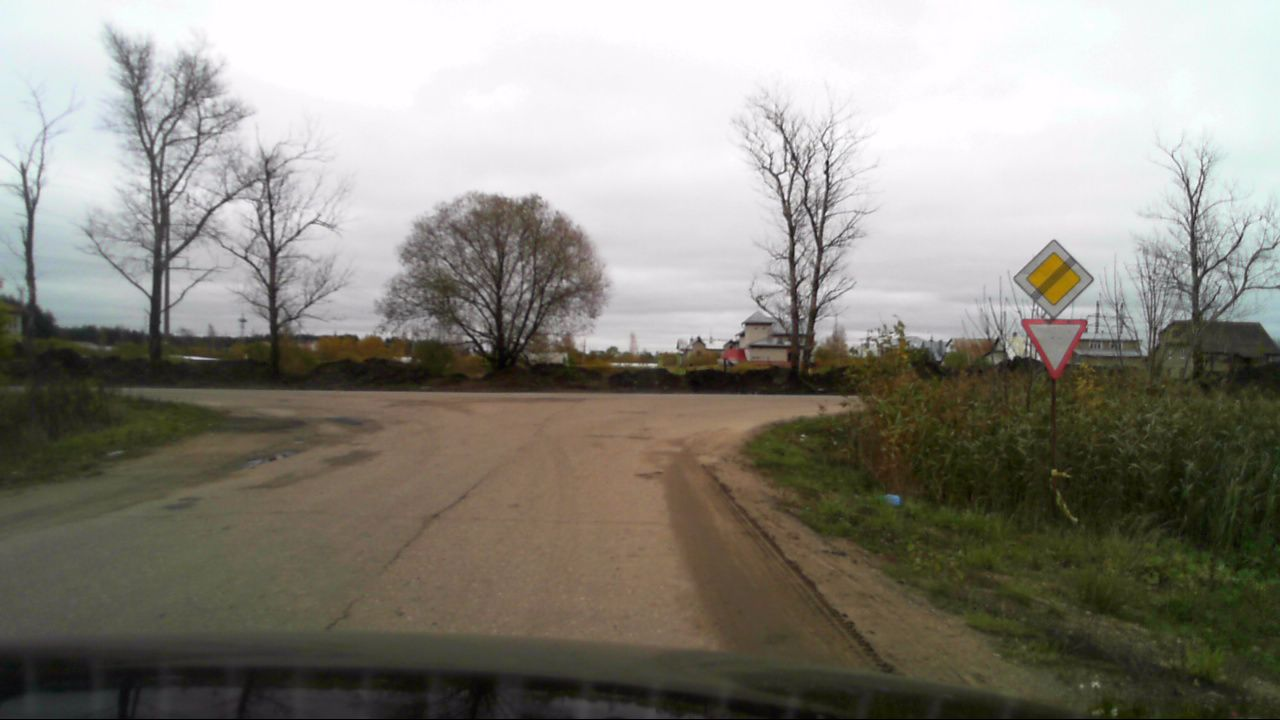main road: (1013, 240, 1093, 318)
